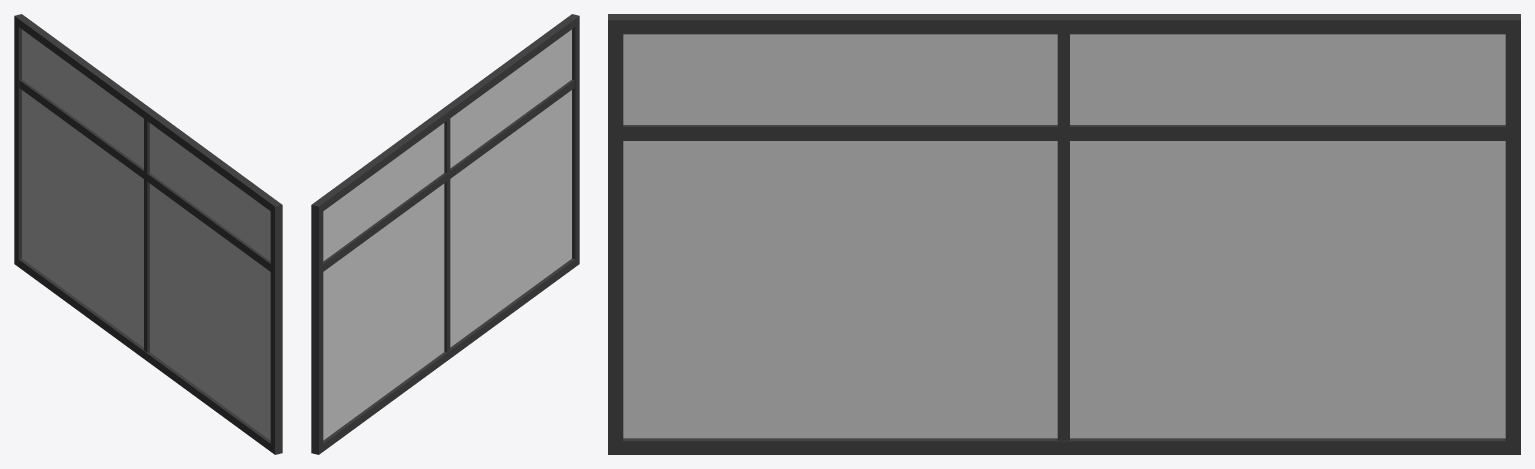
The model's file is Seperator15.fbx.
3 renders of one model, left to right at view 1: azimuth 30°, elevation 25°; view 2: azimuth 150°, elevation 25°; view 3: azimuth 270°, elevation 25°, orthographic. The views are drawn at different scales.
Parts seen in each view (by area): view 1: Seperator15; view 2: Seperator15; view 3: Seperator15.
Boxes of the visible parts, x1,y1,x2,y2 form: Seperator15: (14,14,282,454); Seperator15: (311,14,579,454); Seperator15: (608,14,1520,454).
Bounding box in the file's own units: 0.0501 × 3 × 1.58.
